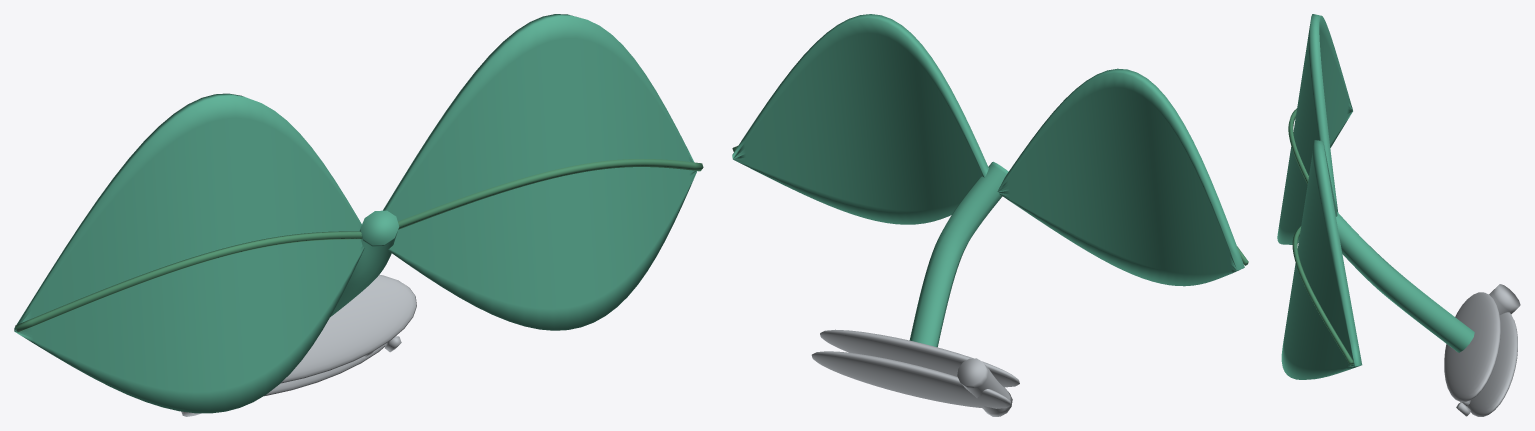
The model's file is Masculine-curly-top-headband251-sprout.glb.
3 views of the same model, side by side, from view 1: azimuth 30°, elevation 25°; view 2: azimuth 150°, elevation 25°; view 3: azimuth 270°, elevation 25° (orthographic). The views are drawn at different scales.
Visible parts, largest first — view 1: 226 extra / Accessory / mint226, 226 extra / Sprout / clip silver235, 226 extra / Sprout / leaf vein235; view 2: 226 extra / Accessory / mint226, 226 extra / Sprout / clip silver235; view 3: 226 extra / Accessory / mint226, 226 extra / Sprout / clip silver235, 226 extra / Sprout / leaf vein235.
Part boxes in pixels (x1,y1,x2,y2): 226 extra / Accessory / mint226: [14, 14, 697, 413]; 226 extra / Sprout / clip silver235: [181, 274, 416, 416]; 226 extra / Sprout / leaf vein235: [15, 159, 703, 332]; 226 extra / Accessory / mint226: [732, 14, 1244, 347]; 226 extra / Sprout / clip silver235: [811, 329, 1019, 416]; 226 extra / Accessory / mint226: [1277, 14, 1474, 379]; 226 extra / Sprout / clip silver235: [1444, 284, 1520, 416]; 226 extra / Sprout / leaf vein235: [1288, 108, 1353, 365].
Size of the model in its own units: 0.2714 by 0.1549 by 0.111.
